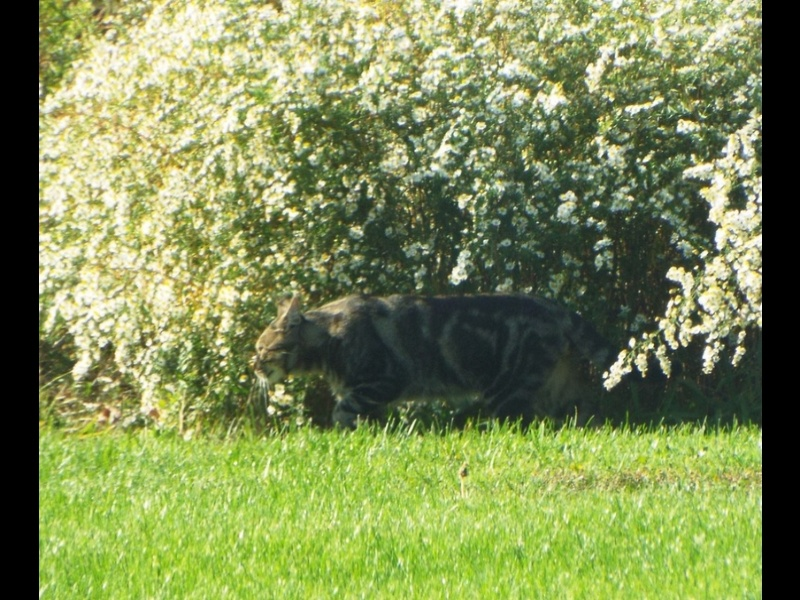cat: (245, 289, 664, 433)
